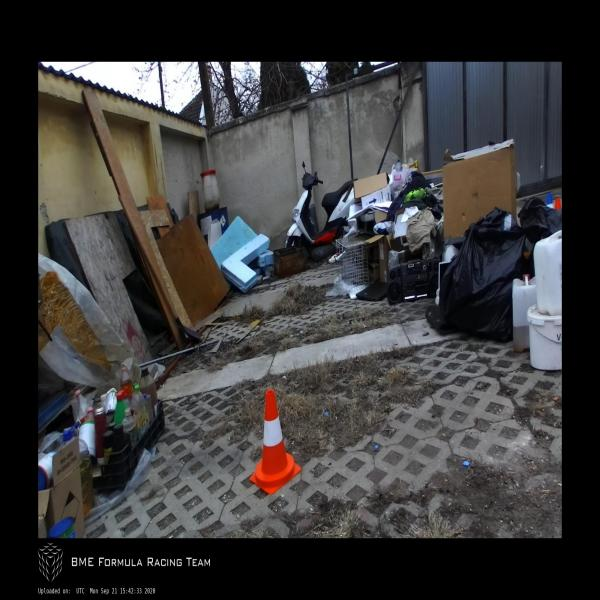large_orange_cone: (250, 390, 301, 494)
